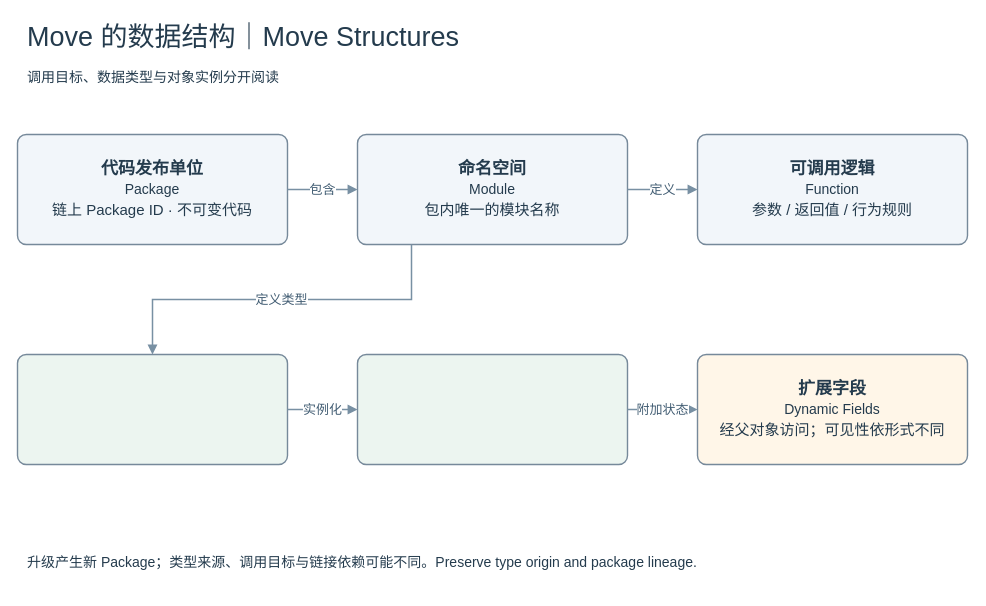
This 986x606 diagram has some shape labels left out. Each missing label, with the centre of its shape:
状态实例 Move Object Object ID · Owner · Version: pixel 492 409
类型定义 Struct / Generic Type Coin<T> · Pool<A, B>: pixel 152 409
